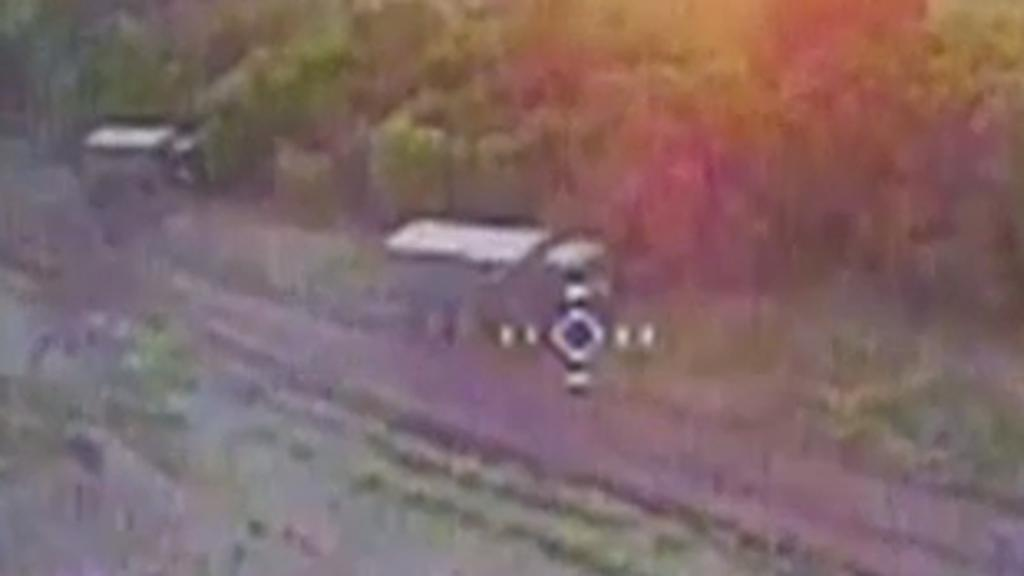TRUCK: (382, 202, 616, 338), (78, 118, 206, 190)
